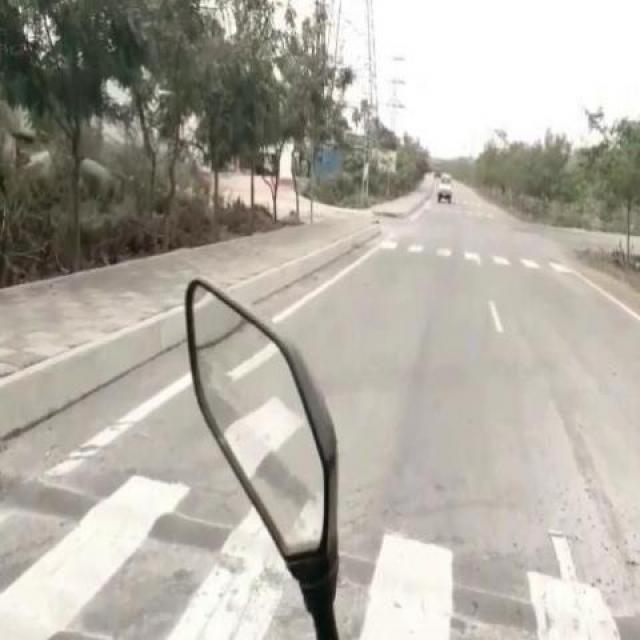Speed Bump: (337, 546, 639, 638), (1, 470, 244, 565), (2, 598, 310, 638)
